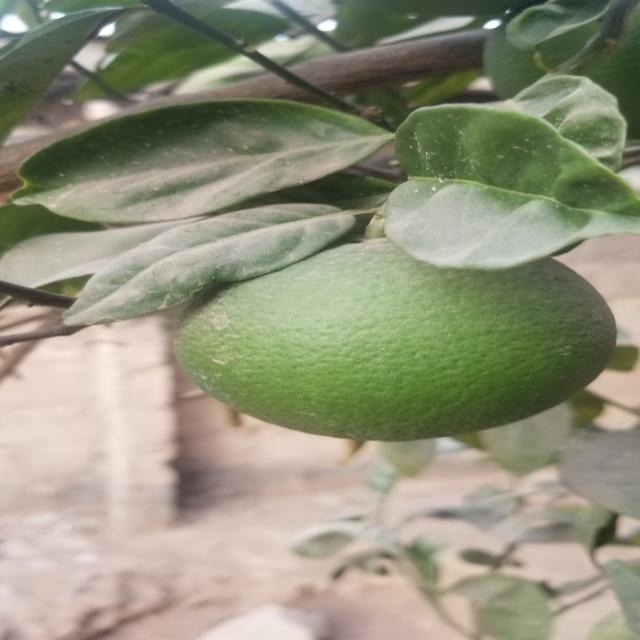agrume: (173, 249, 611, 429)
